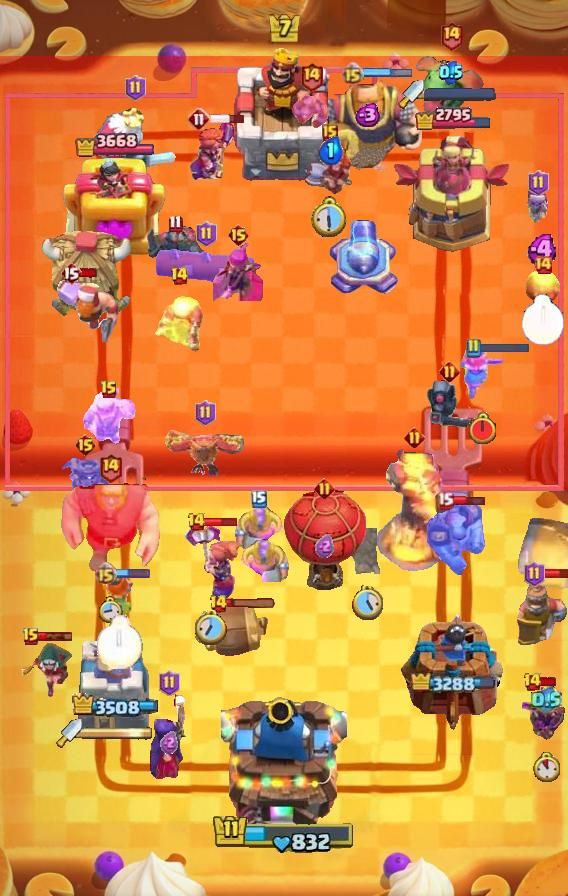archer-evolution: (213, 239, 263, 301), (522, 683, 568, 743)
bandit: (21, 641, 73, 701)
bar: (478, 341, 530, 354), (361, 67, 412, 79), (225, 598, 277, 609), (451, 494, 486, 507), (209, 113, 246, 125), (204, 516, 239, 528), (115, 568, 151, 579), (38, 631, 73, 642), (542, 568, 568, 579), (539, 676, 558, 688), (80, 267, 99, 279)
bar-level: (98, 452, 123, 483), (299, 61, 324, 92), (439, 20, 464, 51), (187, 107, 211, 131), (74, 433, 97, 457), (227, 223, 250, 247), (159, 670, 180, 696), (524, 561, 545, 587), (195, 400, 216, 426), (196, 221, 217, 247), (528, 170, 549, 196), (125, 75, 146, 101), (94, 562, 117, 585), (341, 62, 364, 85), (60, 261, 82, 285), (314, 478, 335, 499), (404, 427, 425, 448), (439, 361, 460, 382), (533, 255, 553, 275), (523, 672, 542, 692), (209, 594, 228, 614), (187, 512, 206, 532), (170, 266, 189, 286), (22, 627, 40, 647), (100, 380, 118, 400), (437, 491, 454, 510), (465, 338, 481, 358), (251, 490, 267, 508), (322, 124, 338, 142), (168, 214, 183, 233)
barbarian-barrel: (191, 604, 271, 658)
barbarian-evolution: (82, 388, 137, 445)
clock: (97, 615, 143, 669), (521, 294, 565, 346), (311, 196, 349, 238), (195, 610, 227, 645), (352, 585, 383, 620), (467, 412, 498, 446), (533, 752, 560, 782), (98, 596, 123, 623)
dagger-duchess-tower: (391, 132, 515, 256), (77, 637, 151, 731)
dagger-duchess-tower-bar: (82, 726, 154, 740), (424, 87, 496, 101)
dirt: (348, 528, 386, 574)
elite-barbarian: (240, 539, 289, 582), (235, 506, 284, 549)
elixir: (527, 234, 560, 265), (531, 686, 562, 714), (318, 136, 343, 165), (352, 103, 381, 127), (439, 60, 463, 84), (315, 534, 334, 558), (160, 731, 178, 754)
king-tower: (221, 690, 347, 826), (229, 43, 339, 181)
king-tower-bar: (212, 813, 356, 855)
little-prince: (58, 454, 112, 508)
lumberjack: (56, 273, 120, 343)
mega-minion: (424, 501, 486, 579)
mini-pekka: (144, 226, 206, 274), (424, 377, 474, 431)
minion: (290, 91, 332, 131)
phoenix-egg: (526, 267, 560, 305)
queen-tower: (401, 612, 505, 731), (62, 156, 166, 256)
royal-ghost: (94, 105, 176, 175)
royal-recruit: (508, 572, 568, 646)
skeleton-evolution: (522, 188, 554, 228)
the-log: (155, 249, 257, 285)
tower-bar: (75, 130, 154, 161), (70, 693, 158, 718), (414, 105, 493, 130), (411, 673, 495, 695)
valkyrie: (304, 145, 356, 199), (458, 347, 506, 401), (101, 572, 139, 624)
valkyrie-evolution: (183, 525, 240, 604), (188, 121, 236, 181)
witch: (146, 693, 192, 781)
wizard: (152, 285, 206, 355)
